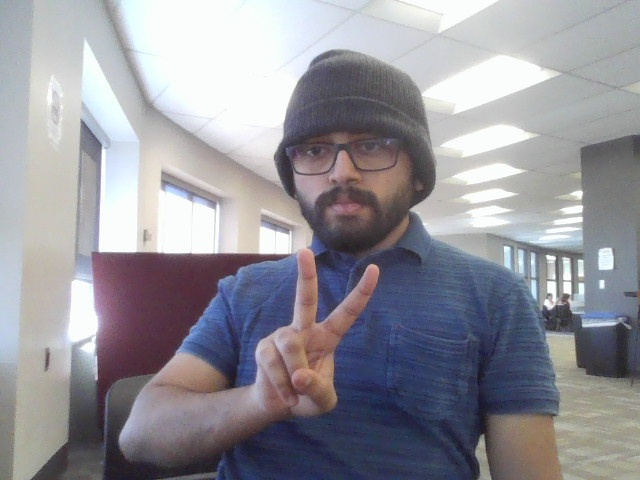start: (242, 239, 393, 436)
